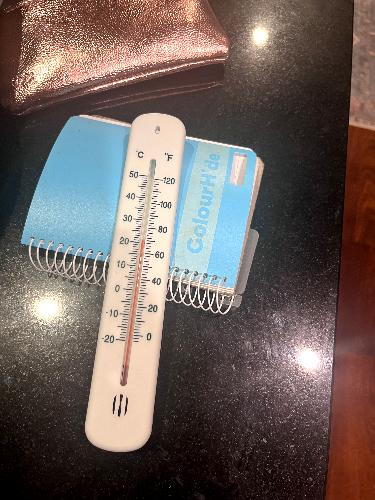thermo: (76, 109, 206, 461)
